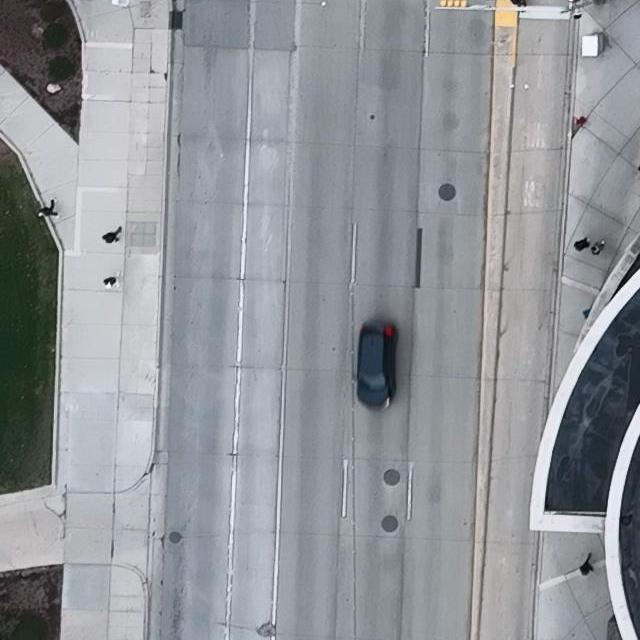car: (352, 321, 399, 409)
